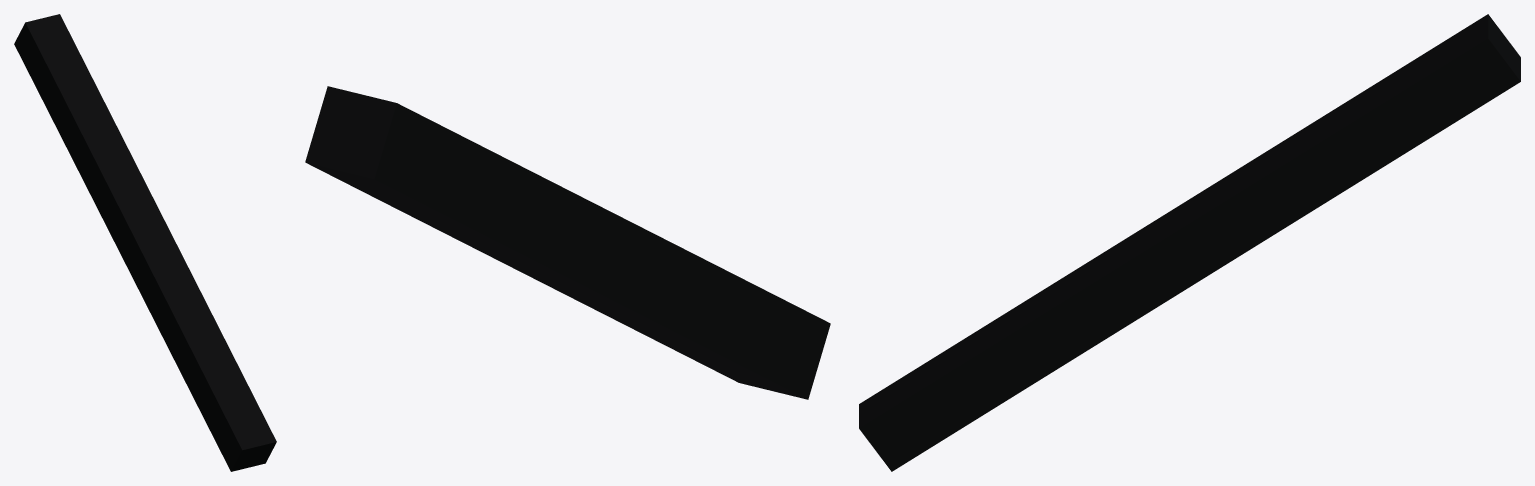
Rendered from Cockpit_Rotorcraft__Collective.obj.
The picture shows the model from 3 angles, left to right: view 1: azimuth 30°, elevation 25°; view 2: azimuth 150°, elevation 25°; view 3: azimuth 270°, elevation 25°; orthographic projection. The views are drawn at different scales.
Visible parts, largest first — view 1: Collective_handle; view 2: Collective_handle; view 3: Collective_handle.
Boxes of the visible parts, bbox=[...] form: Collective_handle: bbox=[14, 14, 276, 471]; Collective_handle: bbox=[305, 86, 830, 399]; Collective_handle: bbox=[859, 14, 1520, 471].
Size of the model in its own units: 0.035 by 0.2889 by 0.3998.
